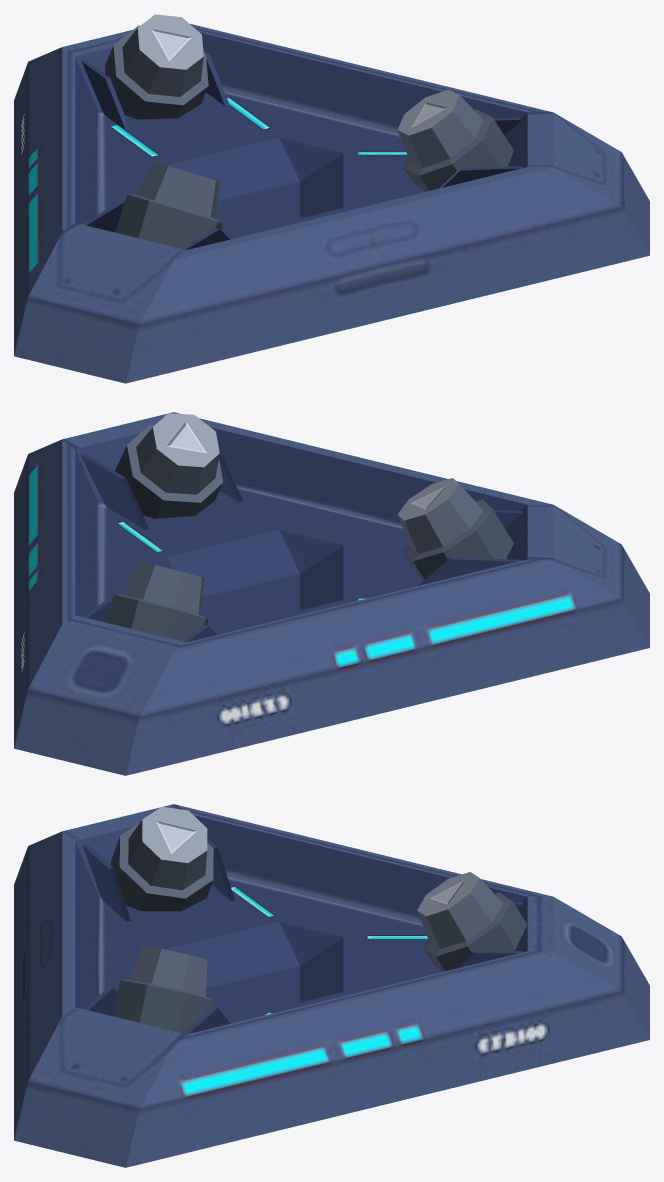
Rendered from Prop_fangyuta01.FBX.
The picture shows the model from 3 angles, top to bottom: view 1: azimuth 30°, elevation 25°; view 2: azimuth 150°, elevation 25°; view 3: azimuth 270°, elevation 25°; orthographic projection.
Visible parts, largest first — view 1: Prop_fangyuta01; view 2: Prop_fangyuta01; view 3: Prop_fangyuta01.
Part boxes in pixels (box(x1,y1,x2,y2)): Prop_fangyuta01: box(14, 14, 649, 383); Prop_fangyuta01: box(14, 412, 649, 775); Prop_fangyuta01: box(14, 804, 649, 1167).
Size of the model in its own units: 12.52 by 2.54 by 10.84.
Materials: 1 (1 with a texture image).
